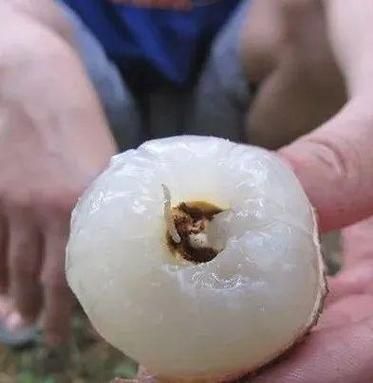Borer: (156, 181, 198, 253)
